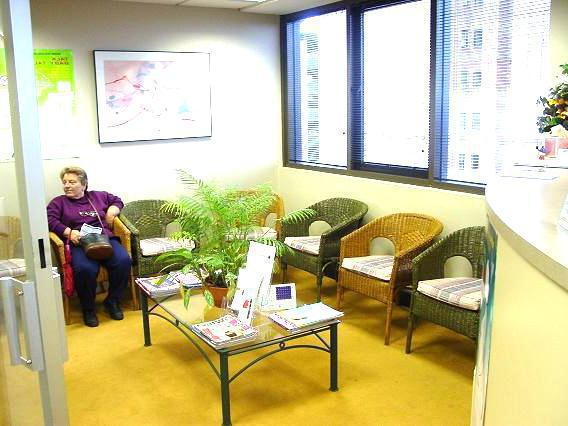Puerta: (4, 19, 63, 420)
